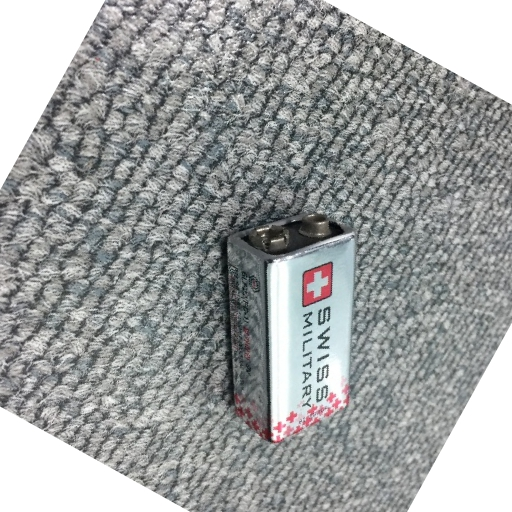Battery_3: (215, 190, 373, 451)
